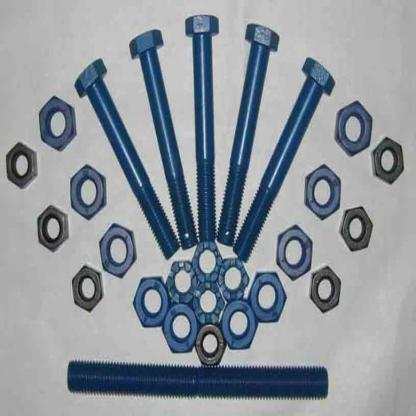FOD: (231, 54, 336, 266), (127, 24, 198, 251), (218, 21, 281, 247), (183, 11, 220, 244), (334, 96, 374, 159), (36, 94, 77, 154), (69, 163, 108, 222), (276, 223, 314, 282), (304, 162, 342, 221), (247, 270, 288, 323), (99, 222, 137, 279), (132, 274, 171, 328), (372, 134, 406, 186), (340, 204, 374, 255), (36, 203, 70, 254), (4, 138, 37, 190), (309, 266, 342, 315), (70, 266, 104, 313), (193, 323, 226, 367)
